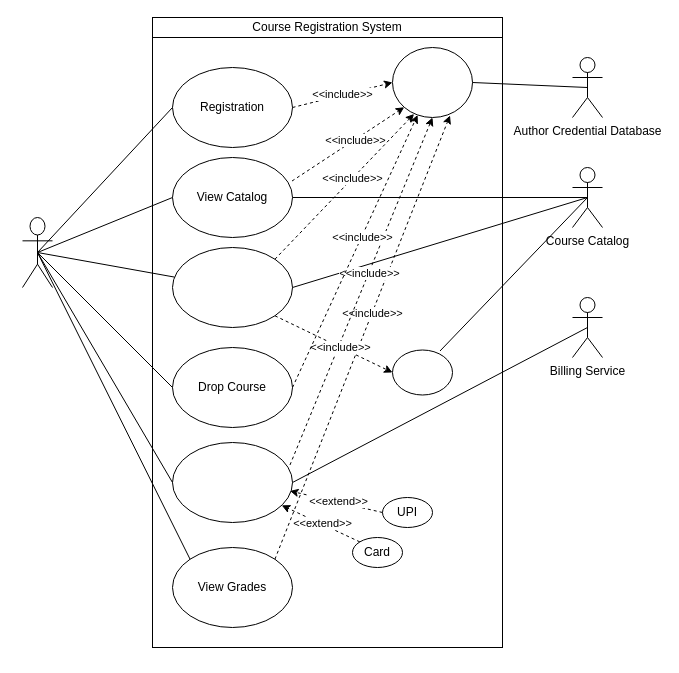
Some shapes in this 679 by 673 pixel diagram are drawn without their labels. Each missing label, with the centre of its shape:
Add Course: (x=232, y=287)
check and allocate: (x=422, y=372)
Pay Bills: (x=232, y=482)
Student: (x=37, y=252)
Verify Credentials: (x=432, y=82)
